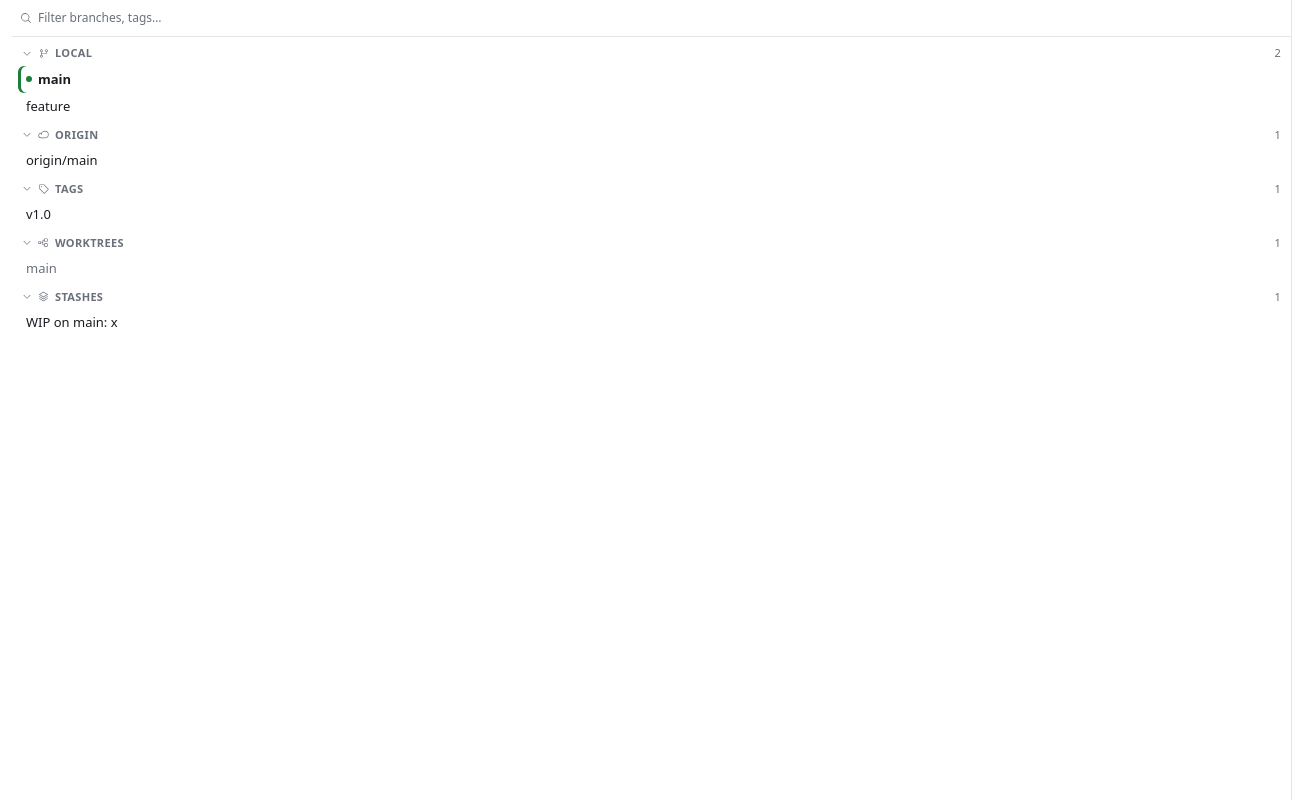
it: Sidebar filter › says so when nothing matches
This screenshot has width=1304, height=800.
Type "zzzz" into the field named "Filter branches and tags". click: (660, 18)
box: [38,6,1283,30]
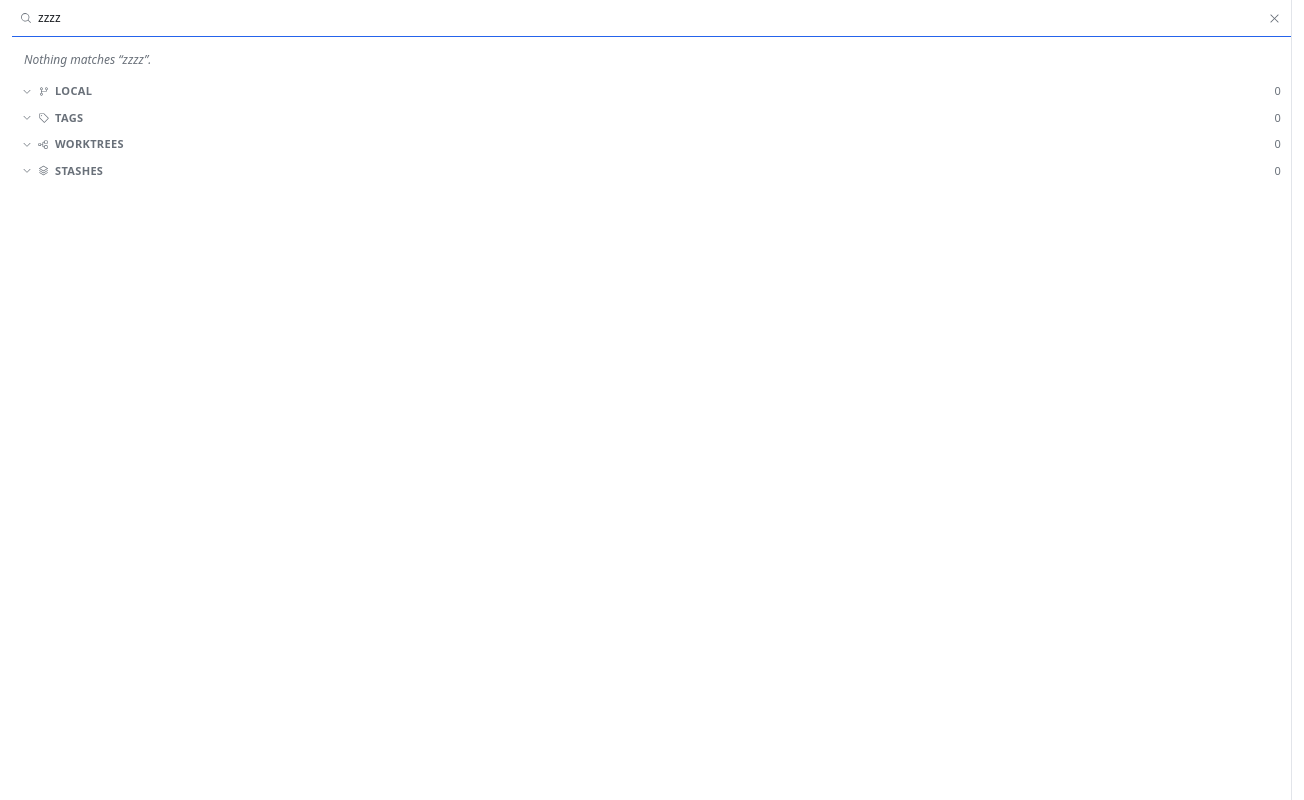
Now the text "Nothing matches “zzzz”." is shown, box [24,51,151,68]
